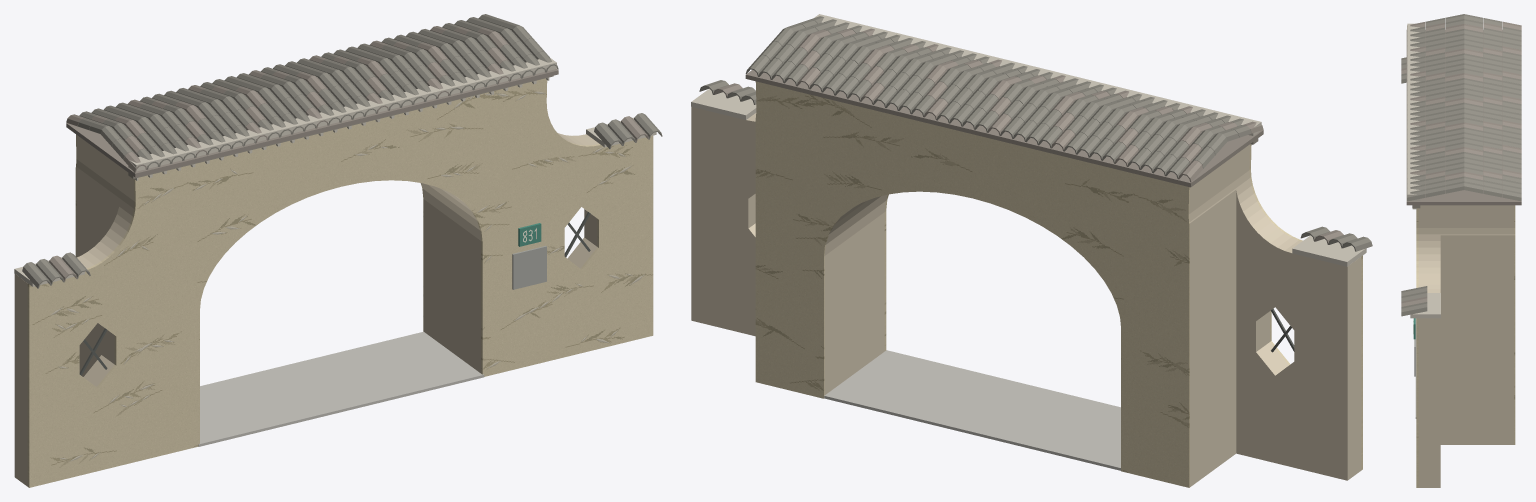
The model's file is huashan-gate-far.glb.
The picture shows the model from 3 angles, left to right: view 1: azimuth 30°, elevation 25°; view 2: azimuth 150°, elevation 25°; view 3: azimuth 270°, elevation 25°; orthographic projection. The views are drawn at different scales.
Visible parts, largest first — view 1: 华山路831号孙氏花园住宅筒瓦拱门; view 2: 华山路831号孙氏花园住宅筒瓦拱门; view 3: 华山路831号孙氏花园住宅筒瓦拱门.
Boxes of the visible parts, x1,y1,x2,y2 form: 华山路831号孙氏花园住宅筒瓦拱门: (14, 14, 662, 487); 华山路831号孙氏花园住宅筒瓦拱门: (691, 14, 1372, 487); 华山路831号孙氏花园住宅筒瓦拱门: (1401, 14, 1521, 487).
Bounding box in the file's own units: 9.09 × 4.38 × 1.82.
12 materials, 1 textured.
